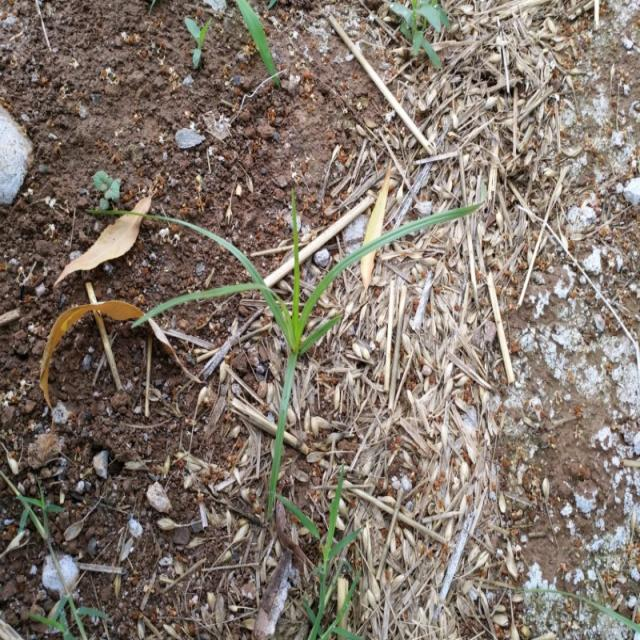sedge: (148, 191, 434, 462)
